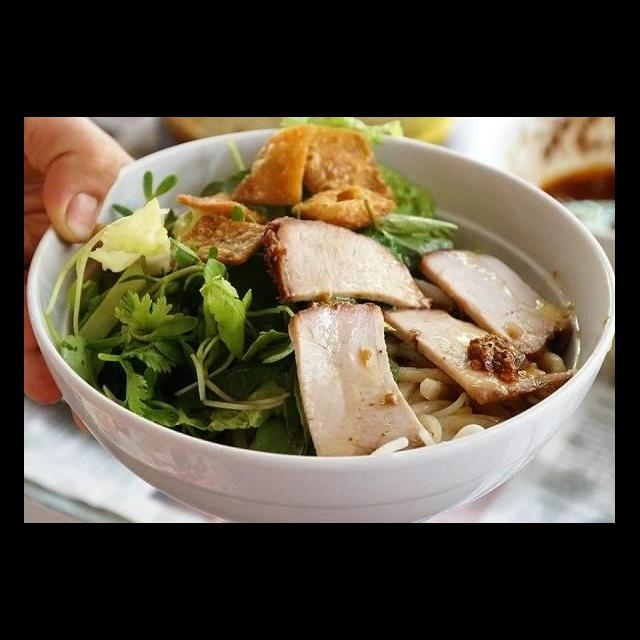banh da: (284, 121, 402, 235), (152, 186, 276, 269), (223, 119, 320, 213)
mi: (376, 331, 506, 449)
mi quang: (28, 140, 616, 523)
thit heo: (283, 293, 437, 462), (378, 300, 578, 411), (412, 246, 576, 360), (260, 213, 434, 311)
